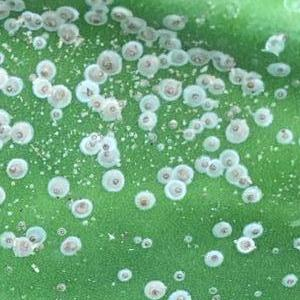Femea: (223, 154, 240, 179), (19, 12, 44, 28), (194, 156, 220, 171), (48, 180, 68, 198), (97, 53, 115, 72), (104, 173, 122, 189), (73, 202, 92, 217), (176, 166, 194, 181), (227, 122, 242, 139), (79, 83, 96, 98), (165, 81, 179, 99), (167, 183, 183, 198), (86, 68, 104, 81), (139, 57, 153, 73), (243, 222, 259, 236), (5, 80, 21, 93), (86, 14, 104, 25), (141, 114, 154, 129), (113, 7, 126, 22), (187, 88, 200, 103), (216, 224, 230, 237), (139, 99, 154, 111), (137, 193, 149, 208), (159, 170, 172, 183), (257, 110, 269, 124), (40, 63, 52, 76), (278, 129, 289, 142)
